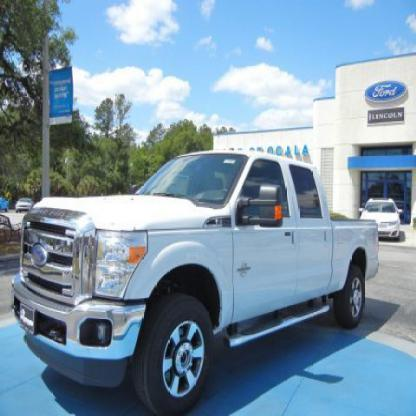car: (12, 149, 383, 415)
